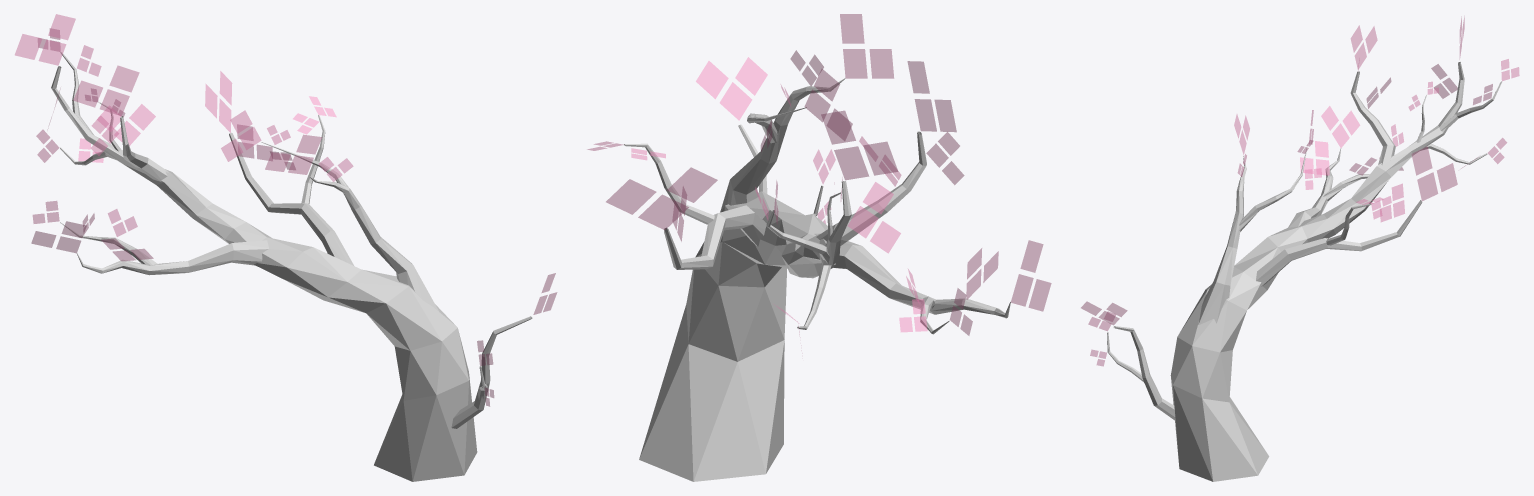
File: deep_tree_02.fbx
3 views of the same model, side by side, from view 1: azimuth 30°, elevation 25°; view 2: azimuth 150°, elevation 25°; view 3: azimuth 270°, elevation 25° (orthographic). The views are drawn at different scales.
Parts seen in each view (by area): view 1: BezierCurve.024; view 2: BezierCurve.024; view 3: BezierCurve.024.
Boxes of the visible parts, x1=… form: BezierCurve.024: x1=15, y1=14, x2=557, y2=481; BezierCurve.024: x1=587, y1=14, x2=1051, y2=481; BezierCurve.024: x1=1081, y1=16, x2=1519, y2=481.
Bounding box in the file's own units: 137 × 137 × 156.
